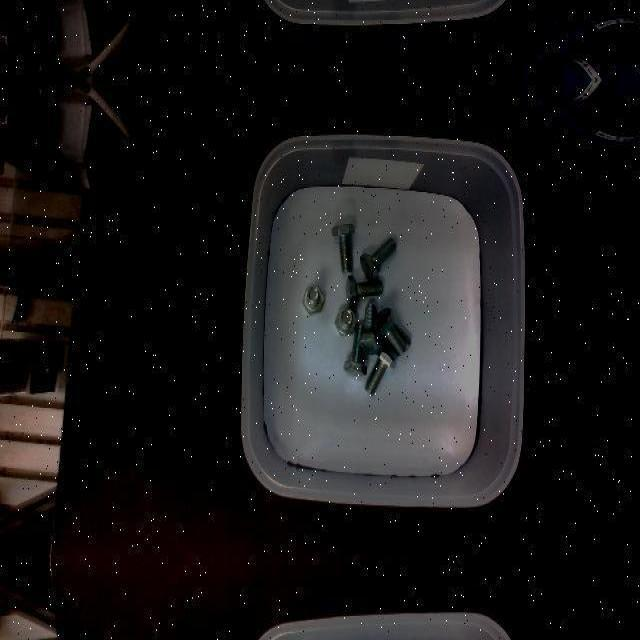screw: (371, 307, 405, 357), (360, 237, 396, 281), (364, 349, 396, 395), (331, 222, 355, 272), (346, 274, 383, 304), (334, 306, 358, 336), (302, 284, 324, 314)
